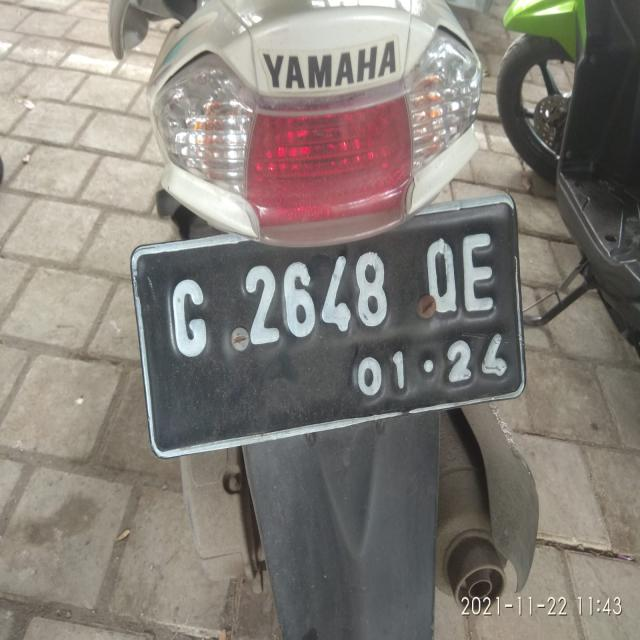plate: (138, 208, 520, 431)
